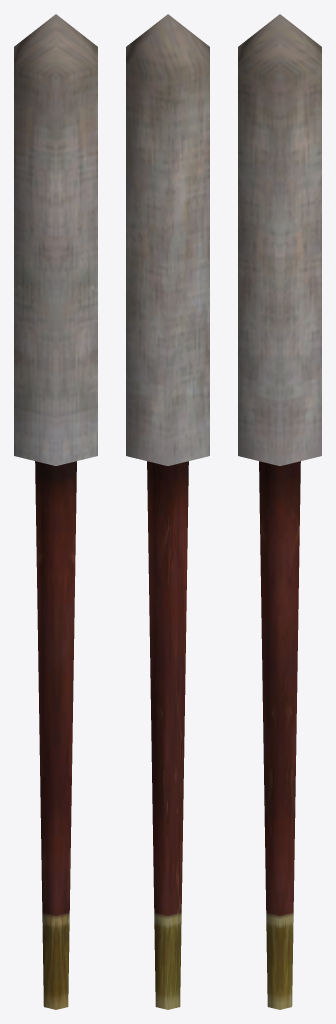
Rendered from eqp_music_giant_gong_stick_s1_l0.fbx.
3 renders of one model, left to right at view 1: azimuth 90°, elevation 25°; view 2: azimuth 210°, elevation 25°; view 3: azimuth 270°, elevation 25°, orthographic.
Visible parts, largest first — view 1: mesh_node; view 2: mesh_node; view 3: mesh_node.
Part boxes in pixels (x1,y1,x2,y2): mesh_node: [14, 14, 97, 1009]; mesh_node: [126, 14, 209, 1009]; mesh_node: [238, 14, 321, 1009].
Bounding box in the file's own units: 0.0662 × 0.7466 × 0.0573.
Materials: 1 (1 with a texture image).
